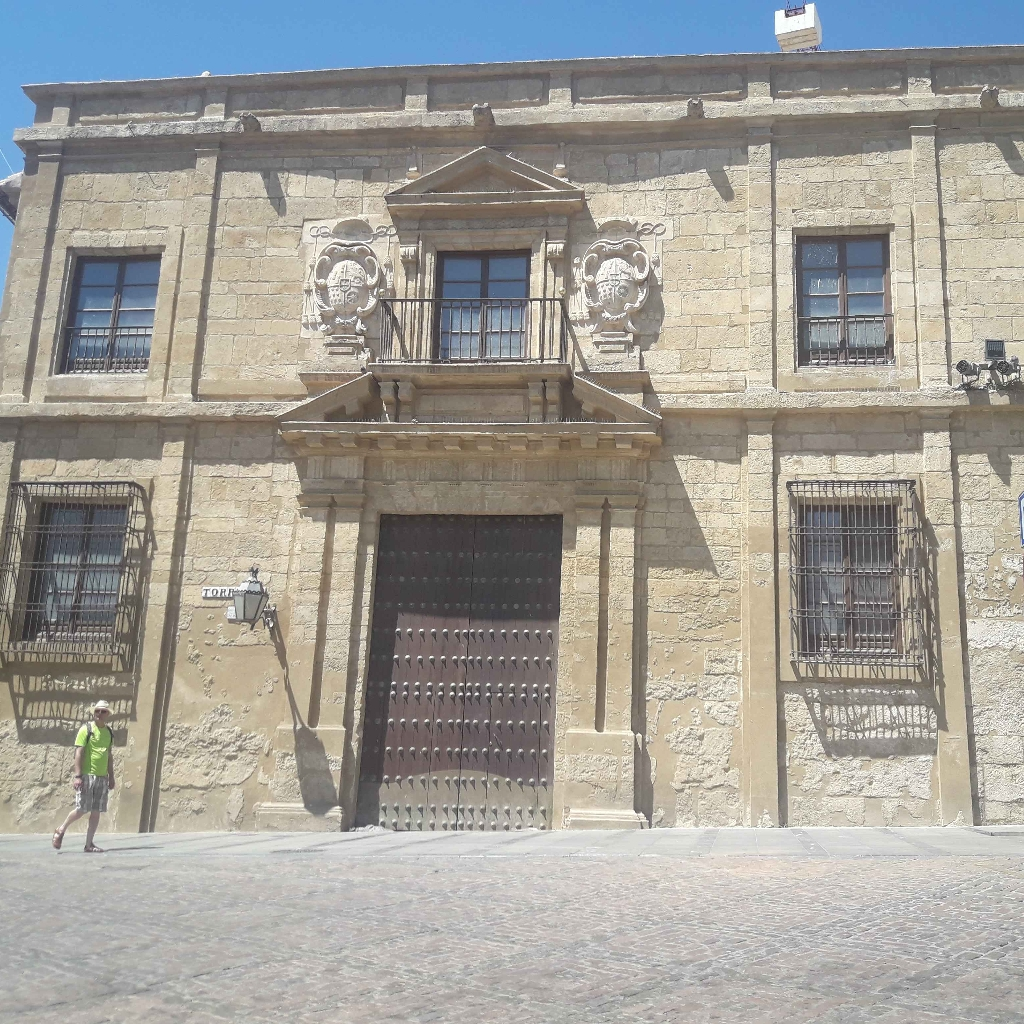fronton: (376, 144, 586, 212)
fronton-partido: (273, 366, 666, 447)
vano-adintelado: (330, 480, 606, 834), (40, 220, 190, 388), (772, 205, 913, 379), (404, 217, 550, 360)
